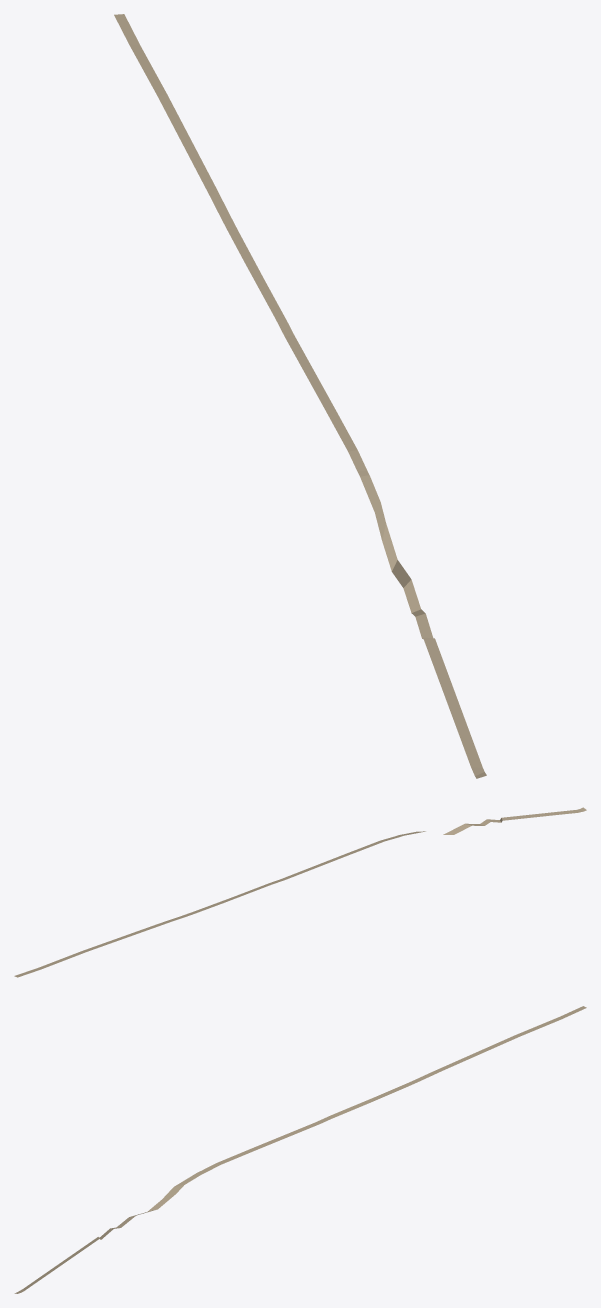
Rendered from farm_-11_-3_track.glb.
The picture shows the model from 3 angles, top to bottom: view 1: azimuth 30°, elevation 25°; view 2: azimuth 150°, elevation 25°; view 3: azimuth 330°, elevation 25°; orthographic projection. The views are drawn at different scales.
Parts seen in each view (by area): view 1: geometry_0; view 2: geometry_0; view 3: geometry_0.
Boxes of the visible parts, <box> form: geometry_0: <box>114,14,486,778</box>; geometry_0: <box>14,807,586,977</box>; geometry_0: <box>14,1006,586,1293</box>.
Bounding box in the file's own units: 140 × 40.43 × 458.
